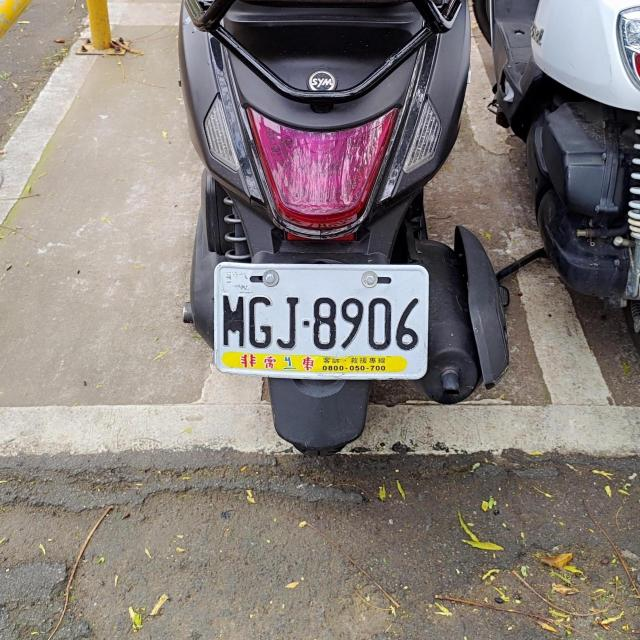W: (211, 261, 428, 382)
